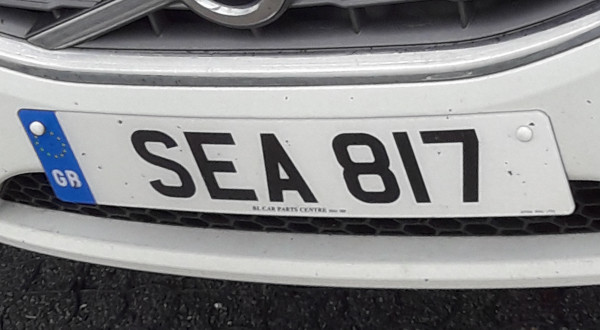license_plate: (15, 108, 575, 219)
